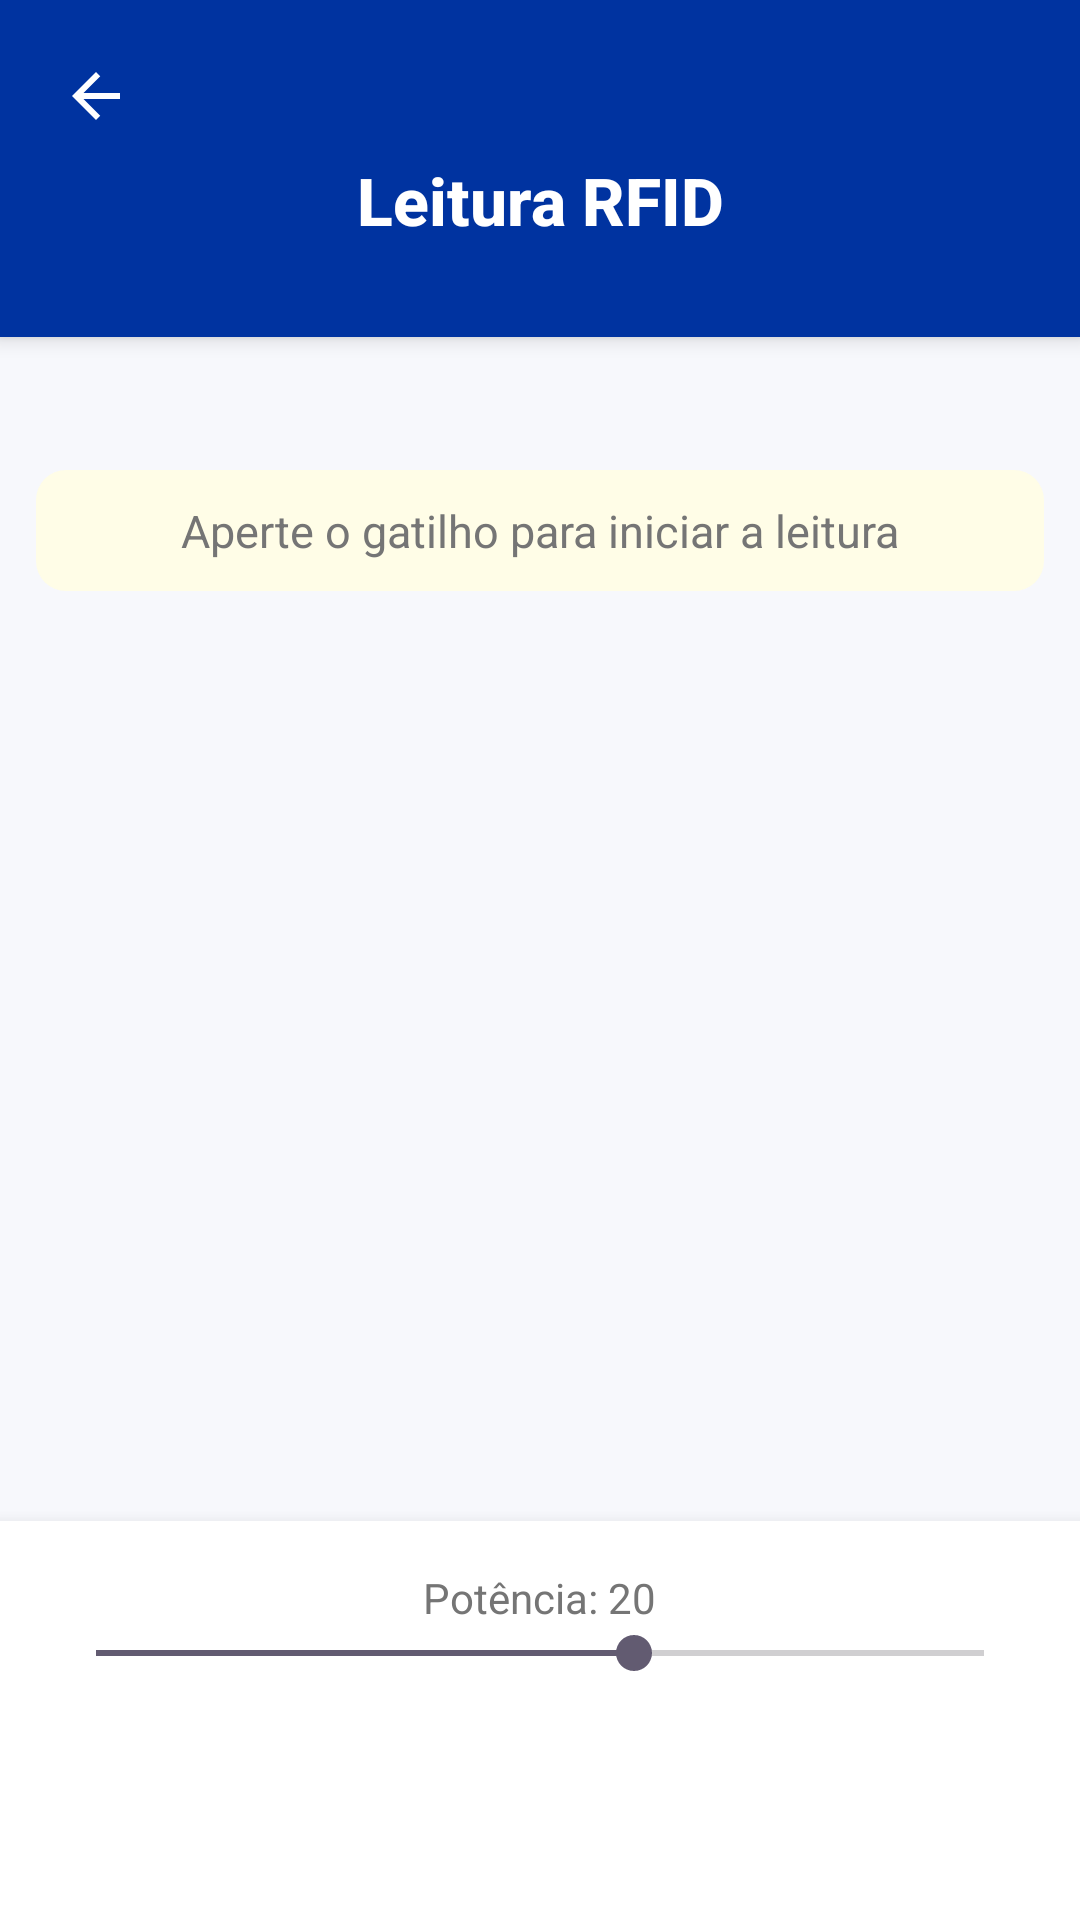

Named icons in this screenshot (1080x1920) and their bounding boxes, [x1, y1, x2, y2]:
arrow back: [72, 72, 120, 120]
